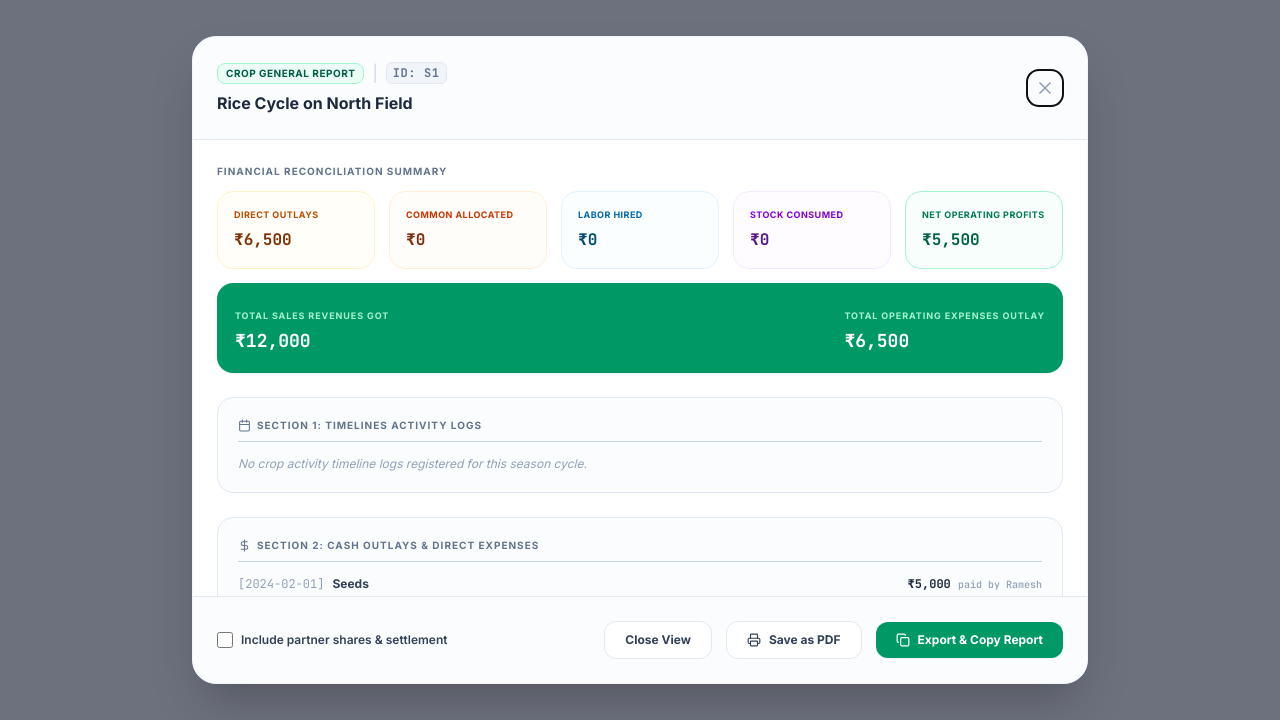
SeasonReportModal - Section 6: Partner Contributions › shows revenue taken against share of revenue
This screenshot has width=1280, height=720.
Click the checkbox labelled "Include partner shares & settlement" at (225, 640), box [217,632,233,648]
(page scrolled)
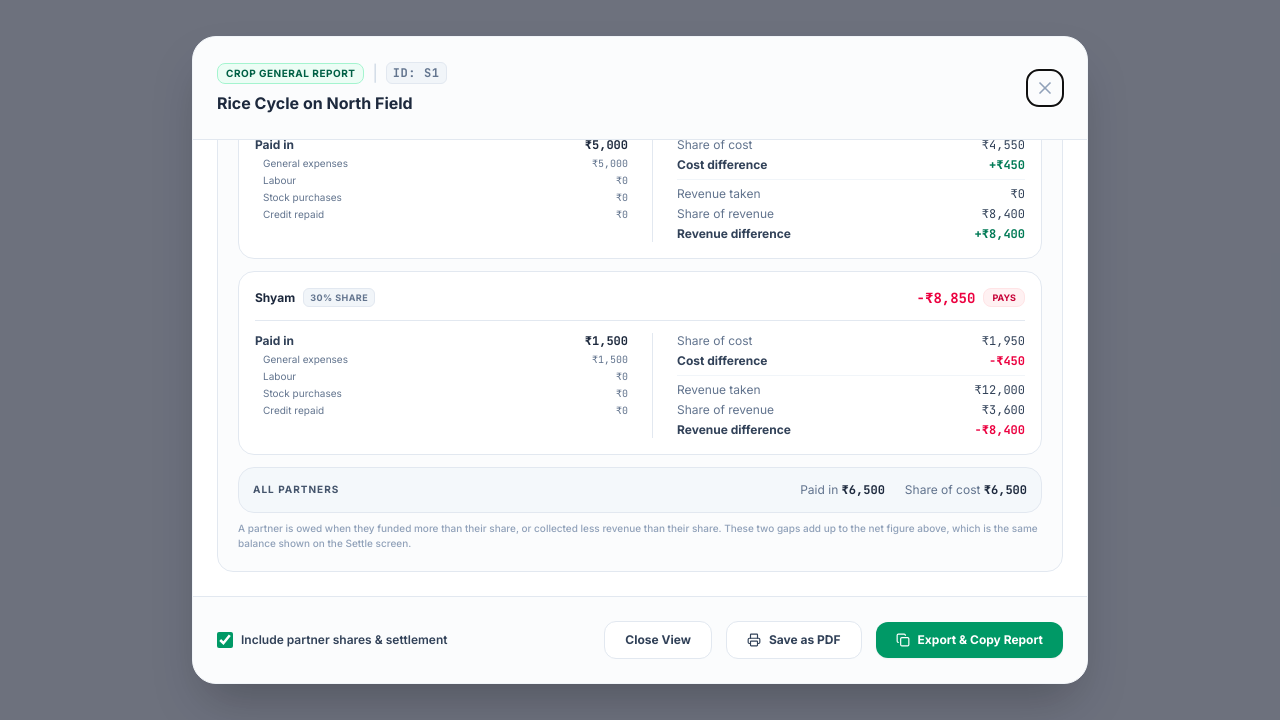
Check: the text "₹3,600" is shown, box [982,402,1025,418]
Check: the text "-₹8,400" is shown, box [975,422,1025,438]
